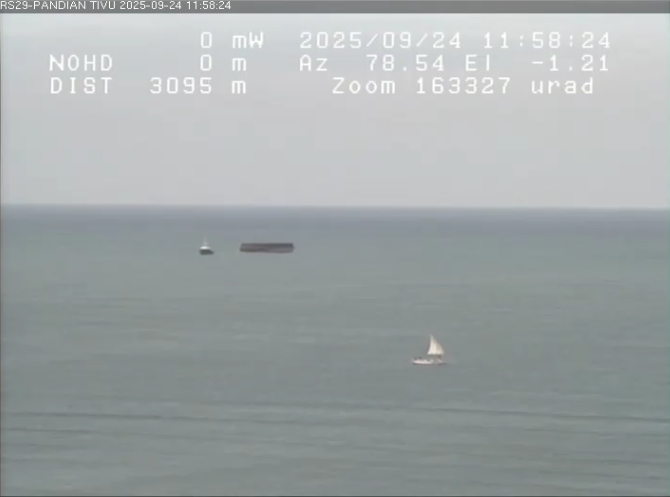BARGE: (233, 234, 312, 267)
SAIL_BOAT: (399, 328, 469, 369), (186, 234, 220, 265)
TOWING: (161, 207, 362, 296)
